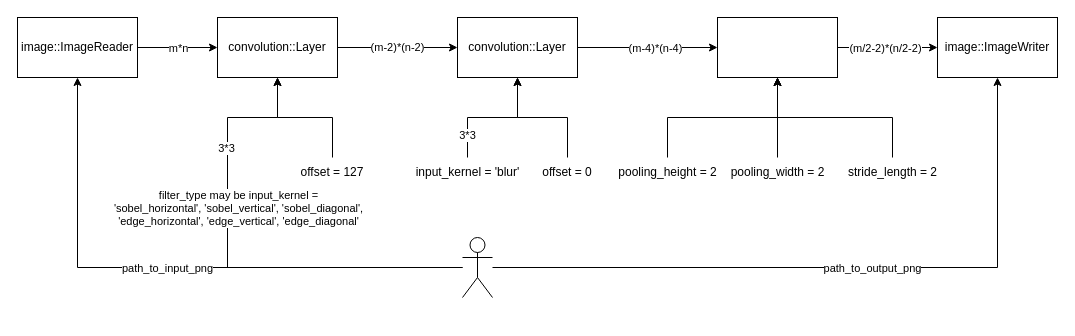
The diagram is 1075 pixels wide and 336 high, and some of its shapes have lost their labels. The shapes that lost their labels are listed below. From the top down, each one's centre as x and y in pixels, then its label:
(x=777, y=47): max_pooling::Layer
(x=477, y=267): edge-detection CLI user
